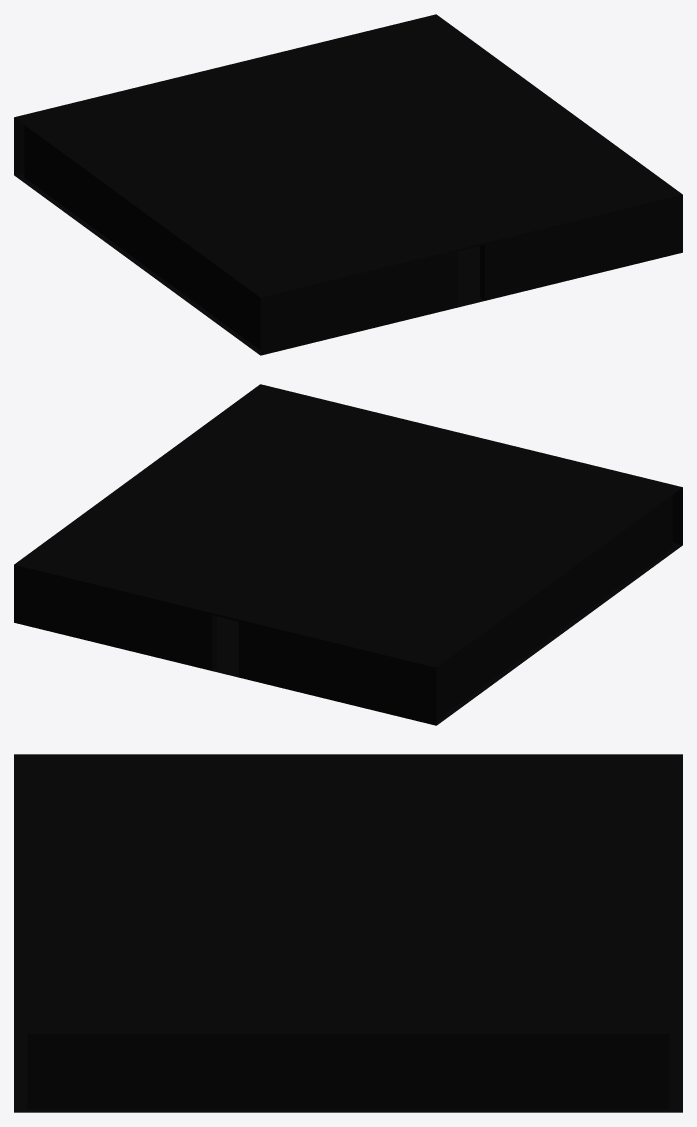
File: Chamber.fbx
The picture shows the model from 3 angles, top to bottom: view 1: azimuth 30°, elevation 25°; view 2: azimuth 150°, elevation 25°; view 3: azimuth 270°, elevation 25°; orthographic projection. The views are drawn at different scales.
Visible parts, largest first — view 1: Cube.002; view 2: Cube.002; view 3: Cube.002.
Boxes of the visible parts, left/top/right/bottom form: Cube.002: left=14, top=14, right=682, bottom=355; Cube.002: left=14, top=384, right=682, bottom=725; Cube.002: left=14, top=754, right=682, bottom=1112.
Size of the model in its own units: 2135 by 280 by 2157.
Materials: 1 (1 with a texture image).
